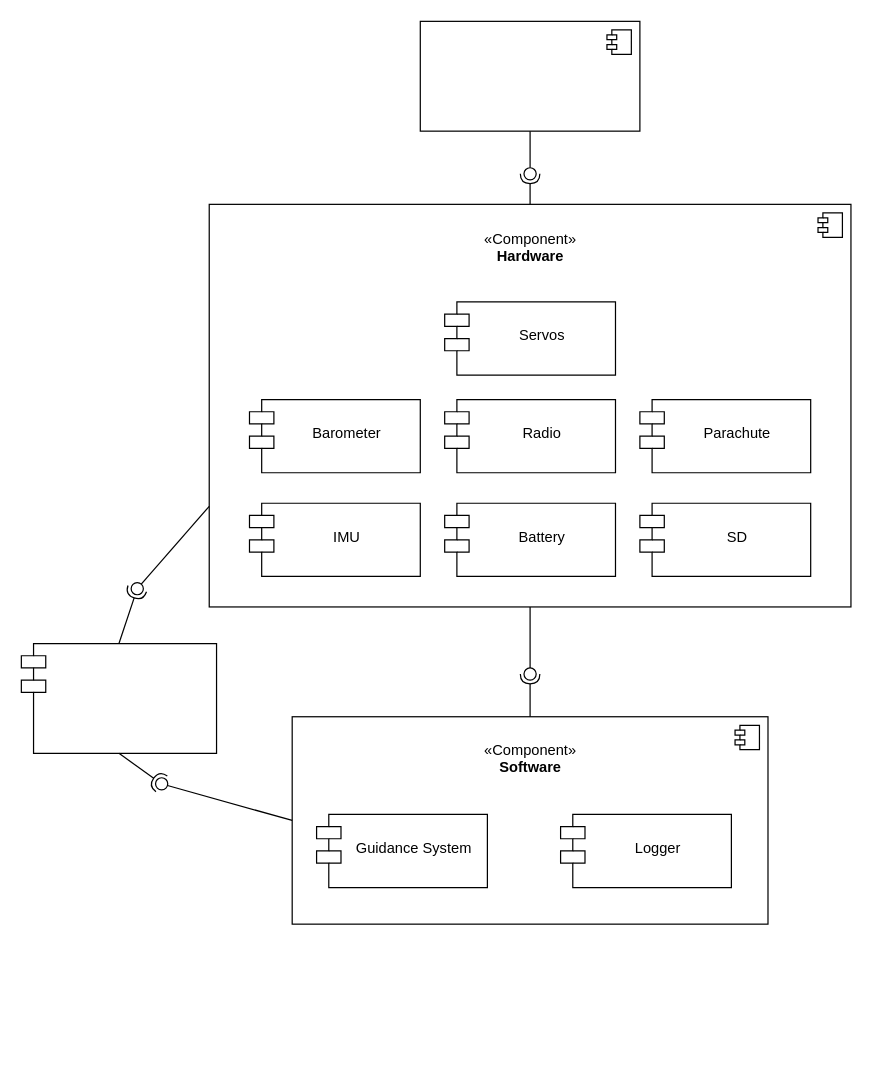
Some shapes in this 872 by 1078 pixel diagram are drawn without their labels. The centre of each missing label's shape, as x and y in pixels:
"Main" goes at point (118, 697).
"«Component» Hardware Interfacing Libraries" goes at point (529, 75).
